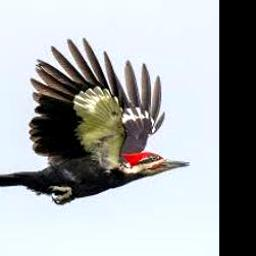Woodpecker: (0, 37, 192, 205)
